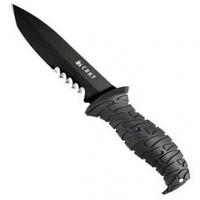knife: (10, 2, 184, 189)
